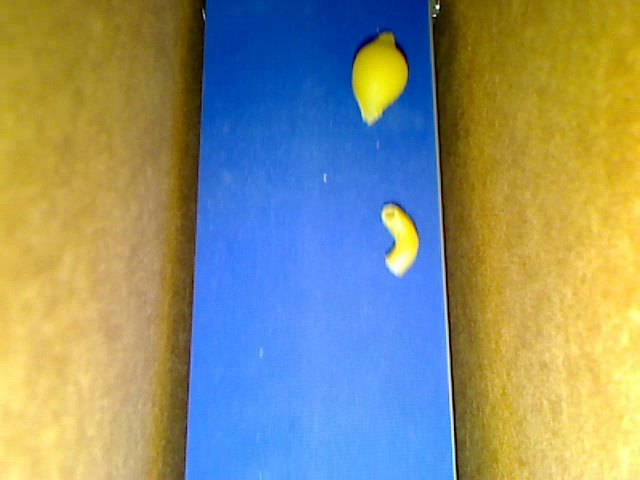elbow: (381, 203, 419, 276)
shell: (352, 31, 408, 124)
